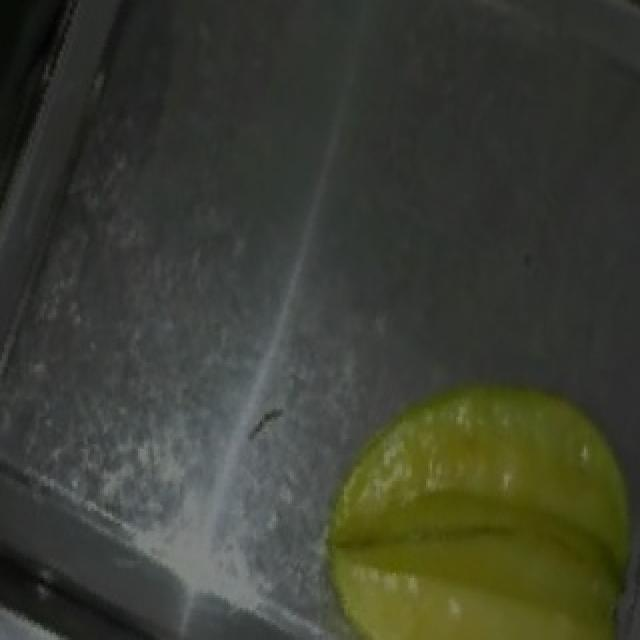fruit: (274, 342, 640, 640)
